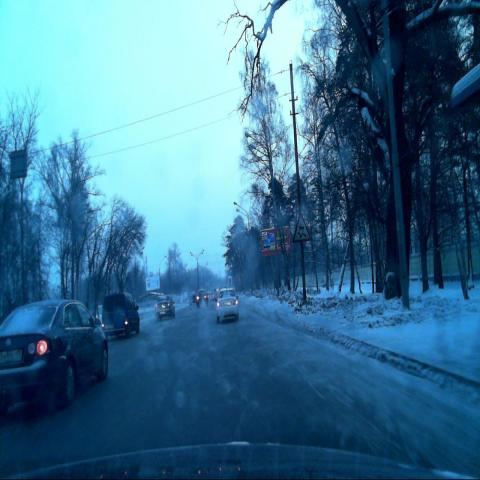1_15: (292, 212, 310, 242)
